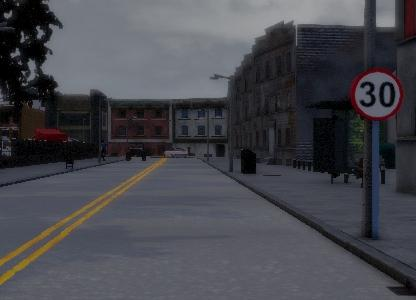Speed_30: (348, 65, 404, 120)
